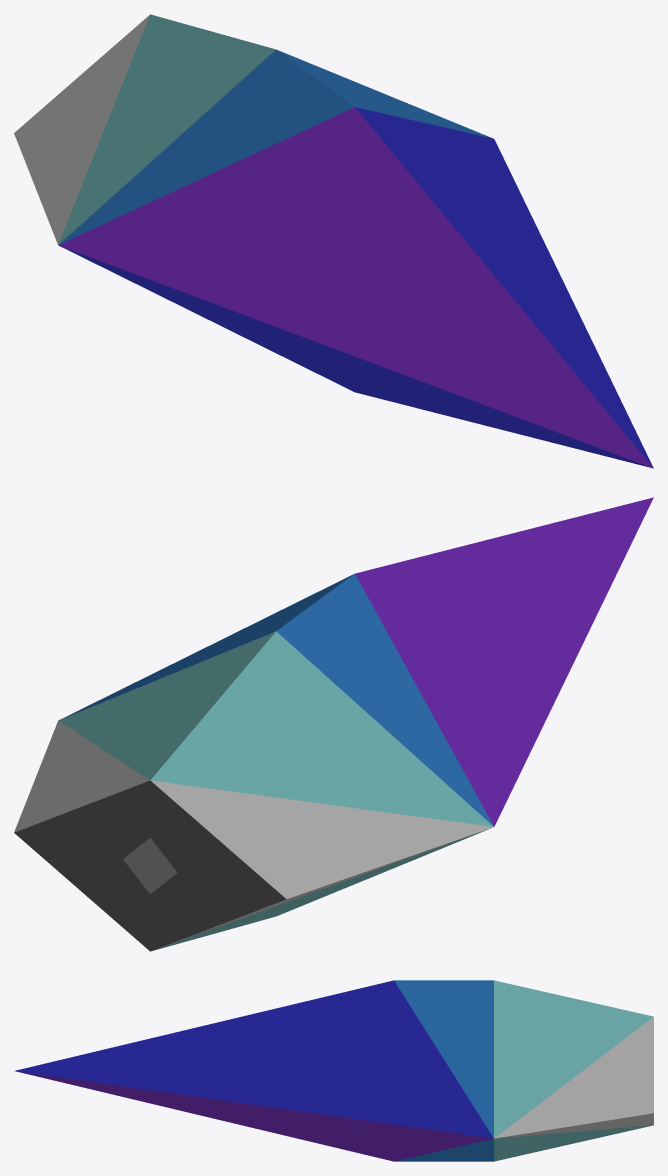
File: arc_python.glb
The picture shows the model from 3 angles, top to bottom: view 1: azimuth 30°, elevation 25°; view 2: azimuth 150°, elevation 25°; view 3: azimuth 270°, elevation 25°; orthographic projection. The views are drawn at different scales.
Visible parts, largest first — view 1: griff_arcelite_python; view 2: griff_arcelite_python, griff_arcelite_python.001; view 3: griff_arcelite_python.
Part boxes in pixels (box(x1,y1,x2,y2)): griff_arcelite_python: box(14, 14, 653, 468); griff_arcelite_python: box(14, 497, 653, 951); griff_arcelite_python.001: box(123, 837, 177, 894); griff_arcelite_python: box(15, 980, 653, 1161).
Bounding box in the file's own units: 0.6784 × 0.424 × 1.36.
Materials: 1 (1 with a texture image).
